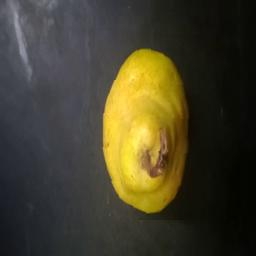Pear Semirotten: (91, 27, 212, 220)
